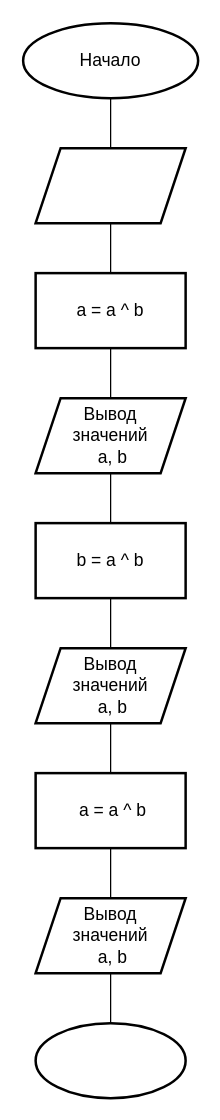
The diagram is 220 pixels wide and 1120 high, and some of its shapes have lost their labels. Each missing label, with the centre of its shape:
"Введите a, b" goes at pixel 110 185.
"Конец" goes at pixel 110 1060.
